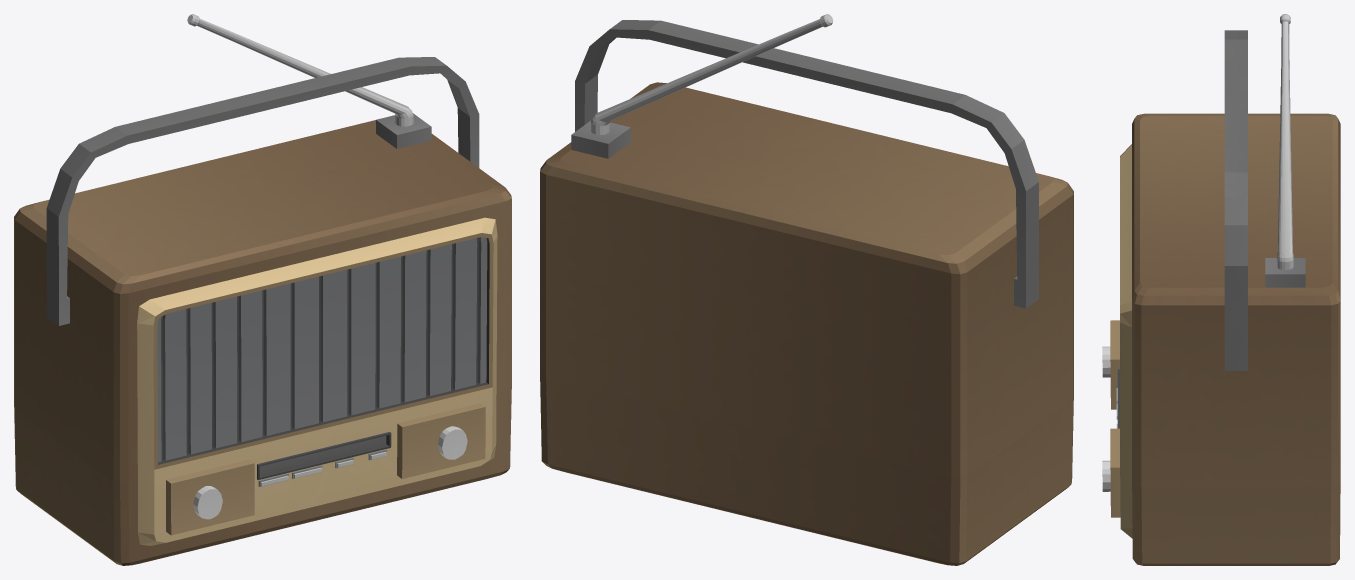
The model's file is radio.dae.
3 renders of one model, left to right at view 1: azimuth 30°, elevation 25°; view 2: azimuth 150°, elevation 25°; view 3: azimuth 270°, elevation 25°, orthographic. The views are drawn at different scales.
Visible parts, largest first — view 1: radio; view 2: radio; view 3: radio.
Part boxes in pixels (x1=…): radio: x1=14, y1=14, x2=511, y2=565; radio: x1=540, y1=14, x2=1073, y2=565; radio: x1=1102, y1=14, x2=1340, y2=565.
Bounding box in the file's own units: 0.3477 × 0.1778 × 0.3649.
